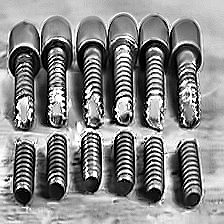creased_bolts: (5, 66, 208, 152)
